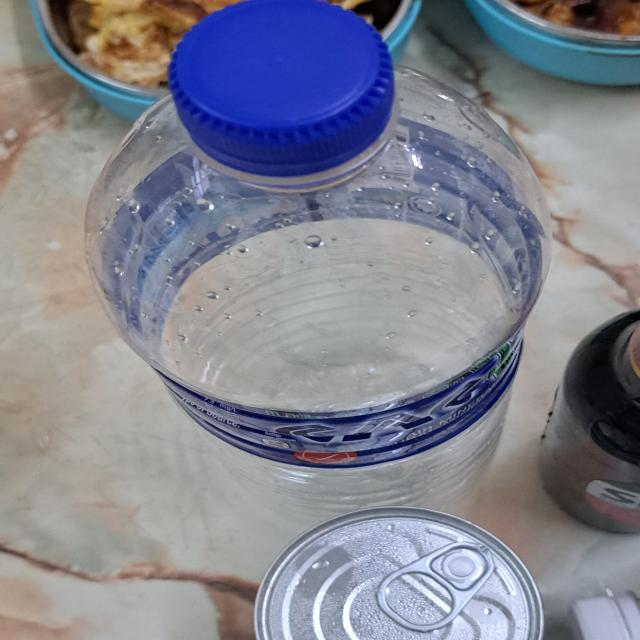can: (250, 507, 546, 640)
glass bottle: (541, 306, 640, 545)
plastic bottle: (84, 65, 548, 530)
plastic bottle cap: (164, 0, 394, 181), (567, 595, 635, 640)
pop tab: (377, 544, 496, 633)
